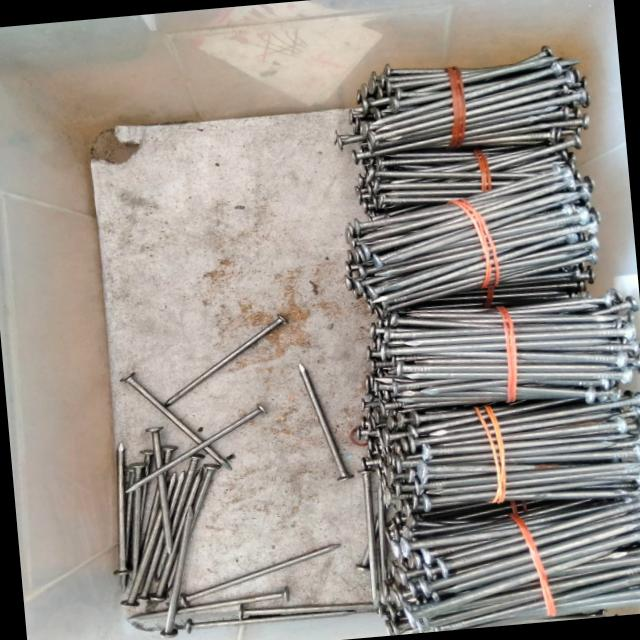3x10 nail: (162, 536, 348, 610), (290, 350, 356, 490), (342, 464, 393, 615)
